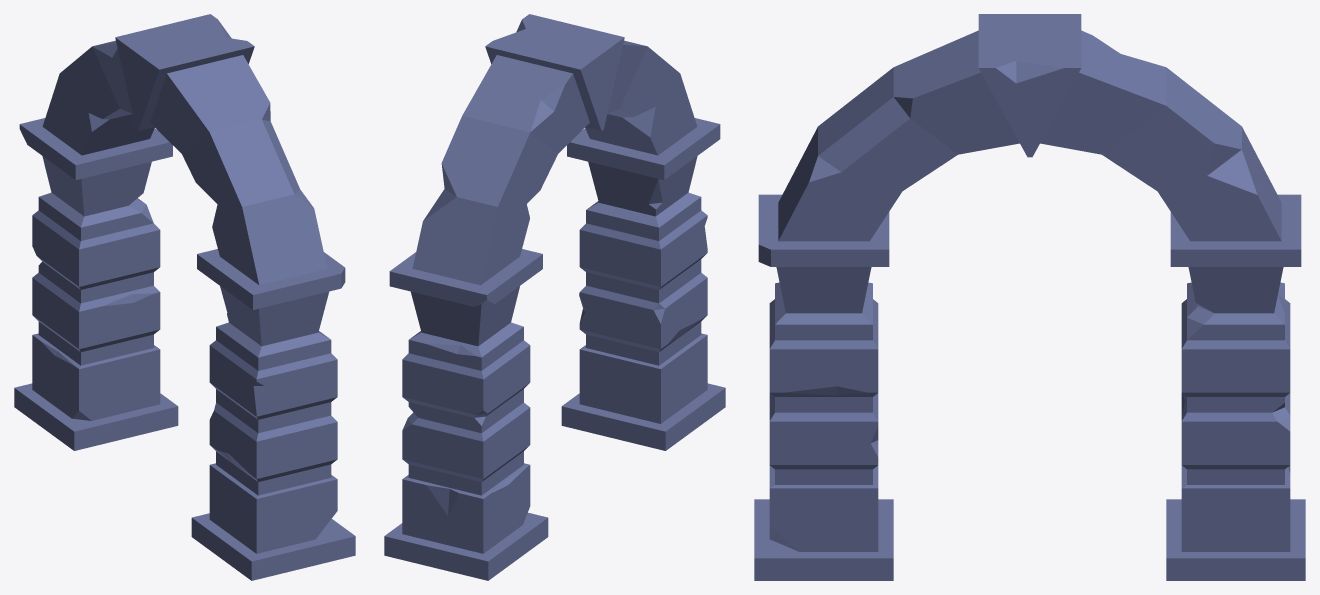
Rendered from arch_2_2.fbx.
The picture shows the model from 3 angles, left to right: view 1: azimuth 30°, elevation 25°; view 2: azimuth 150°, elevation 25°; view 3: azimuth 270°, elevation 25°; orthographic projection. The views are drawn at different scales.
Parts seen in each view (by area): view 1: arch_2_2; view 2: arch_2_2; view 3: arch_2_2.
Boxes of the visible parts, x1,y1,x2,y2 form: arch_2_2: (14, 14, 355, 580); arch_2_2: (384, 14, 725, 580); arch_2_2: (754, 14, 1305, 580).
Size of the model in its own units: 2.18 by 8.82 by 8.64.
